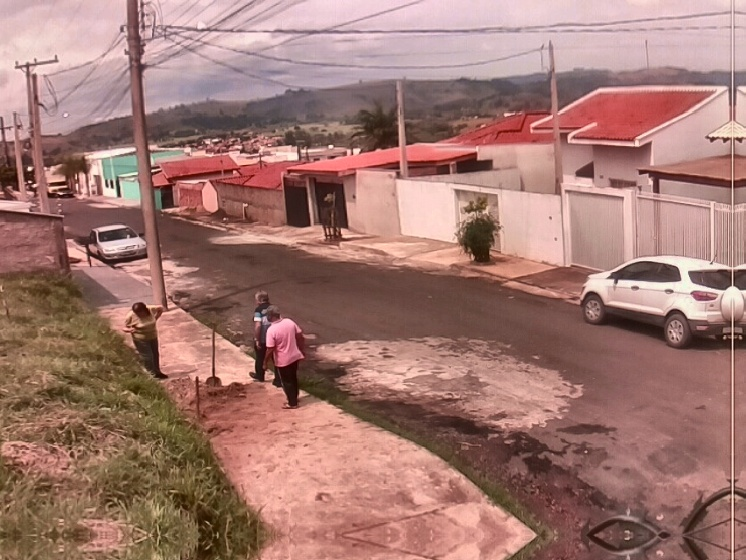person: (260, 306, 308, 409), (123, 301, 169, 378), (250, 290, 279, 379)
